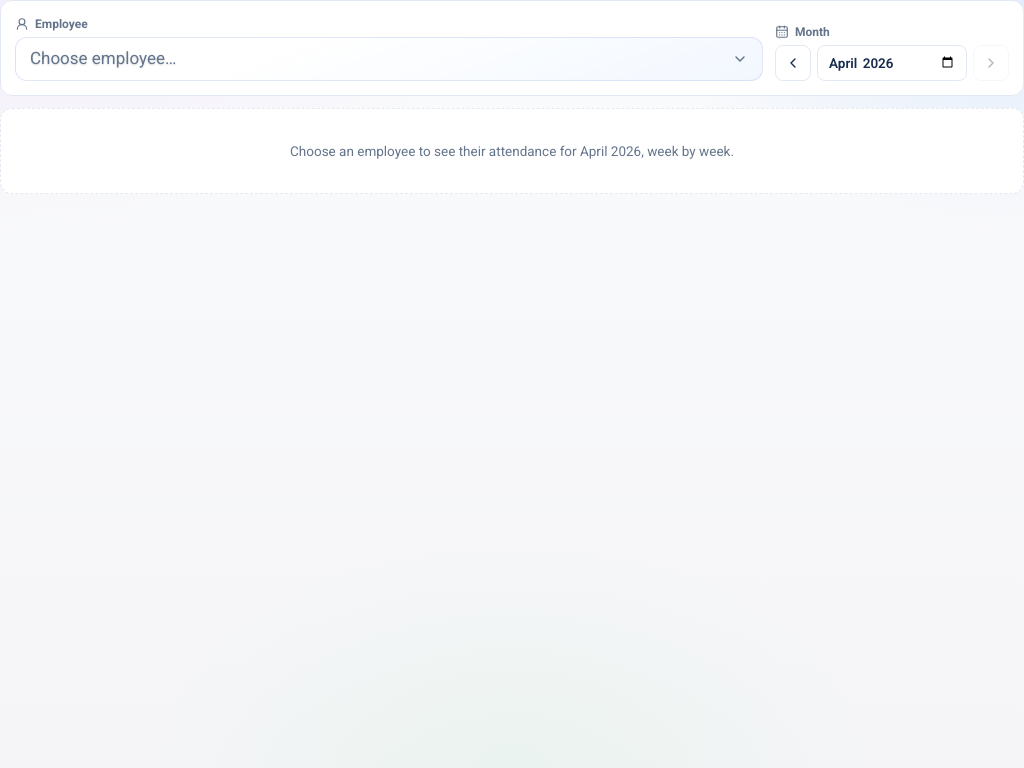
Test: Attendance Correction — weeks and days › offers Edit for past days and today, not for upcoming days
Step 1. Click the button "Choose employee…" → (103, 58), box [15,37,763,81]
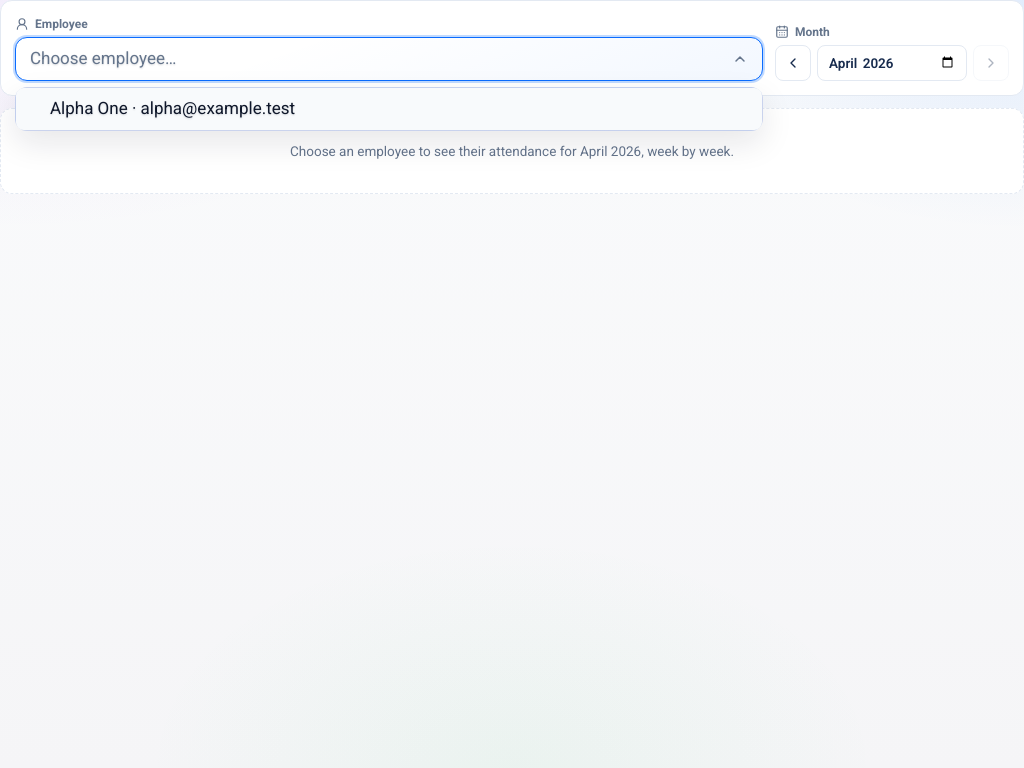
Step 2. Click the option "Alpha One · alpha@example.test" → (173, 108), box [16,88,762,130]
(page scrolled)
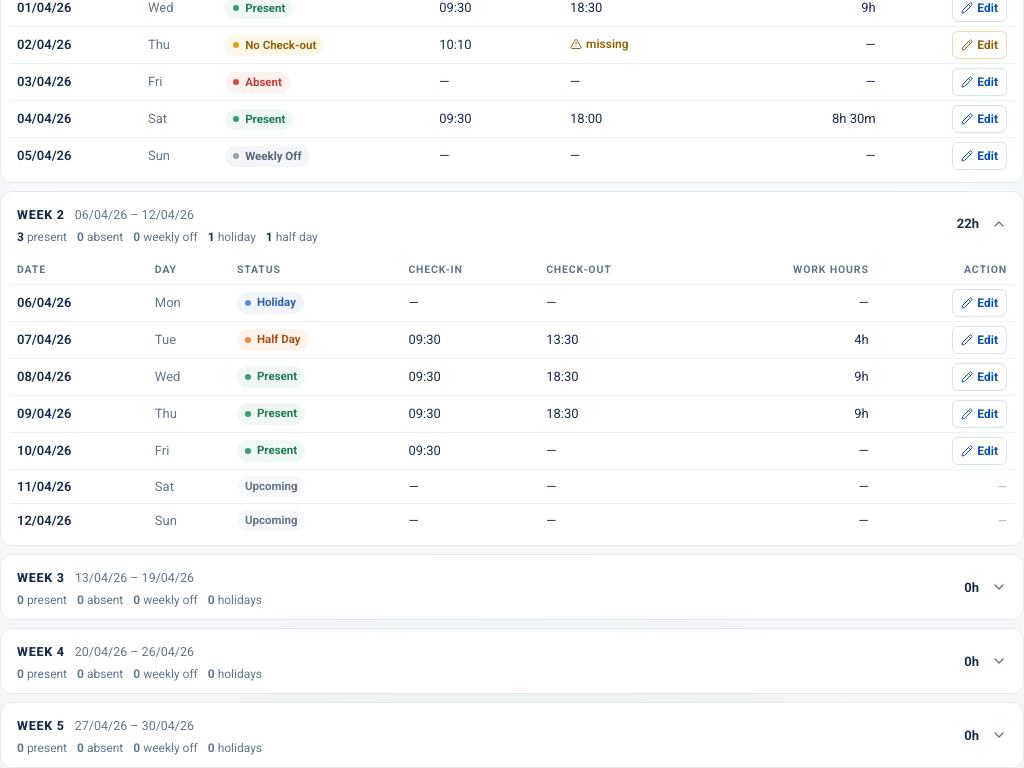
Step 3. Click the button "Week 3" → (37, 578), box [1,555,1023,619]
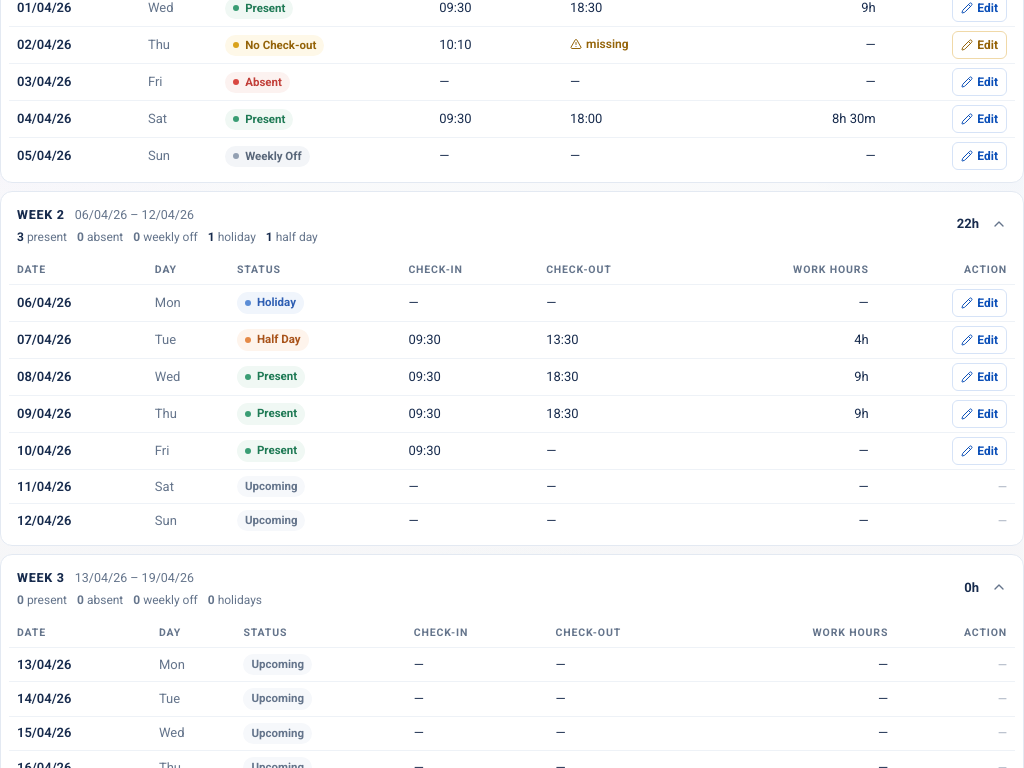
Expected: the text "Upcoming" is shown 7 times
